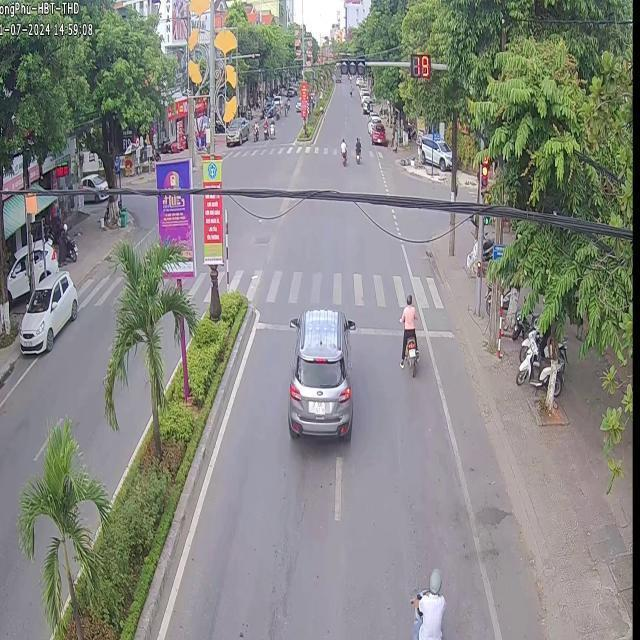car: (287, 307, 353, 440), (18, 269, 76, 354)
motobike: (410, 567, 444, 638), (404, 336, 417, 375)
red_light: (410, 54, 430, 79), (480, 154, 487, 196)
stop_line: (348, 325, 399, 334), (256, 320, 288, 329)
